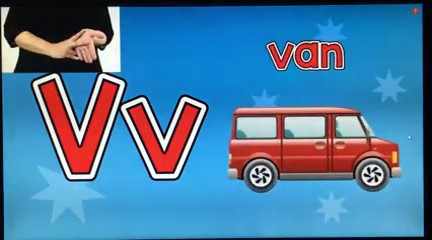V: (46, 25, 111, 67)
